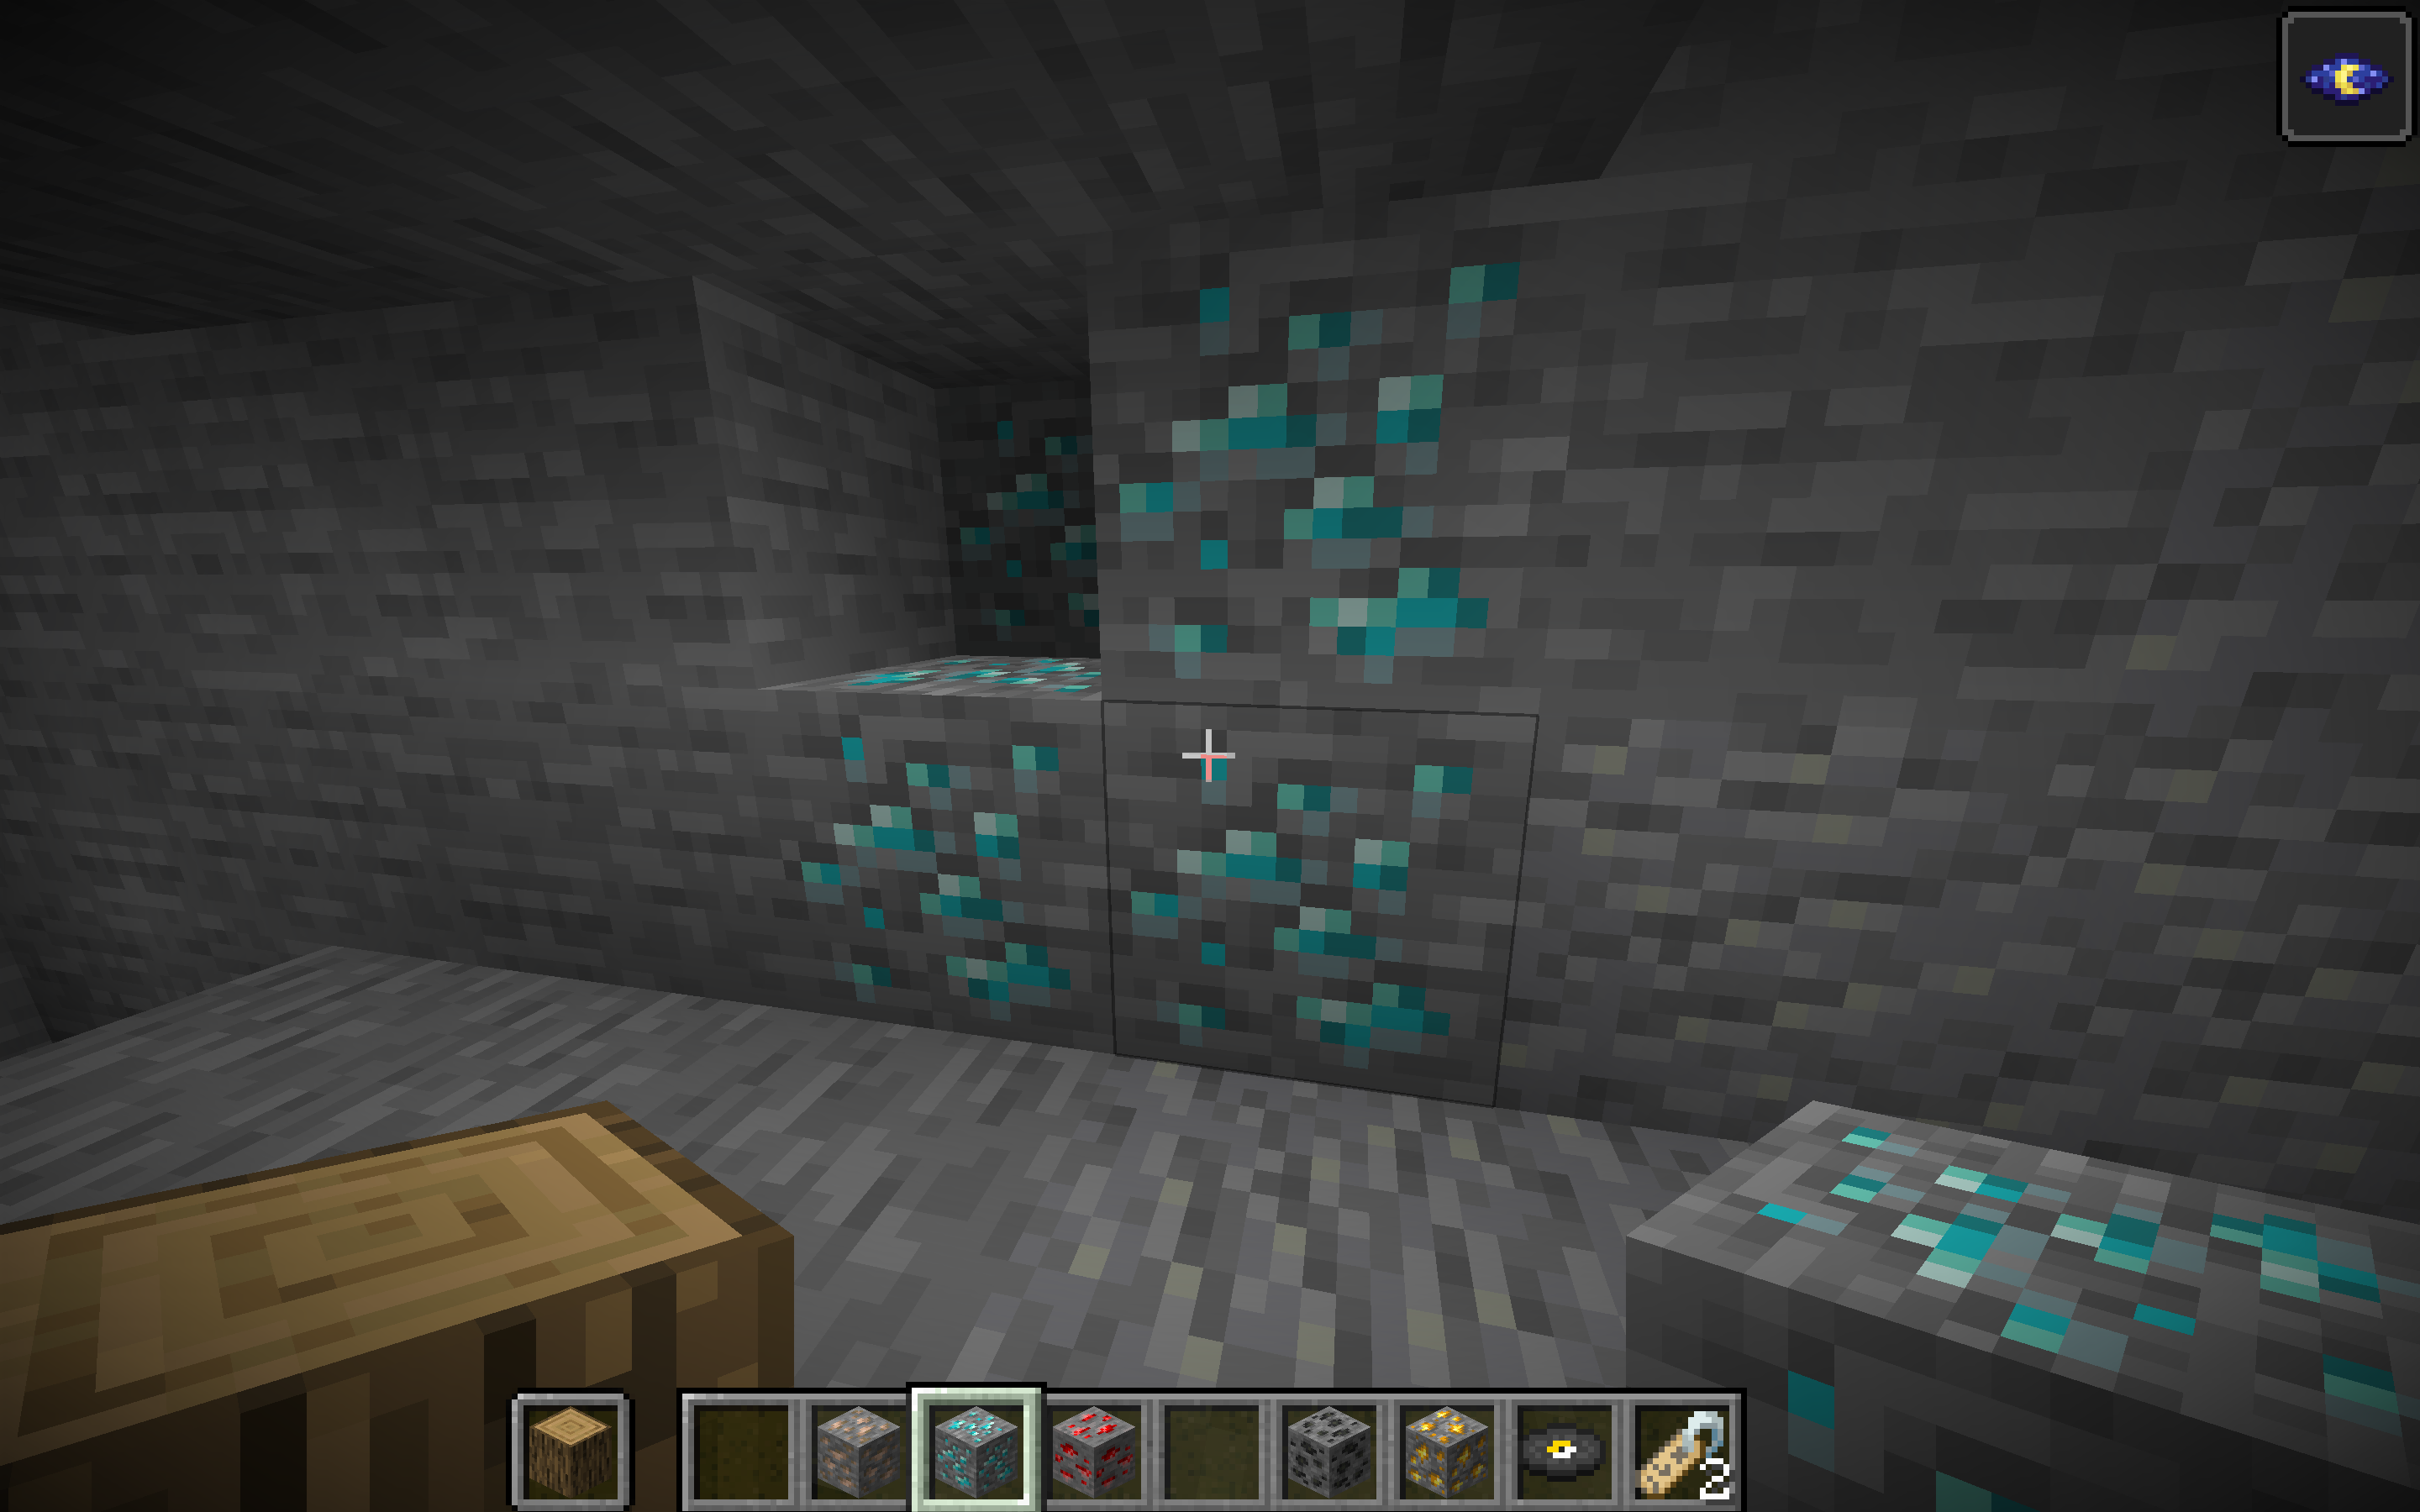diamond: (488, 218, 1808, 1134)
